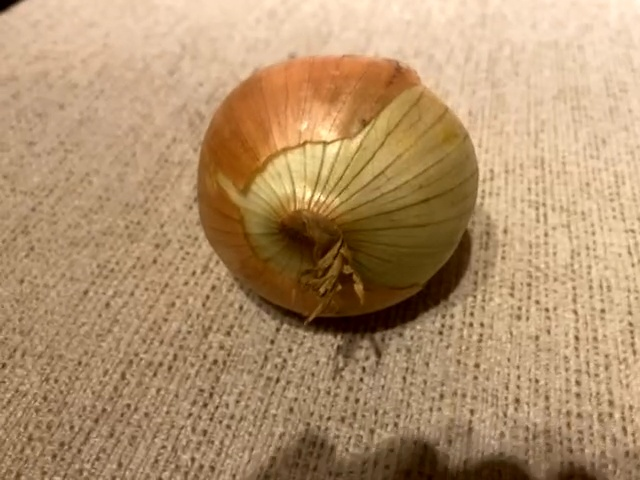onion: (191, 47, 485, 334)
